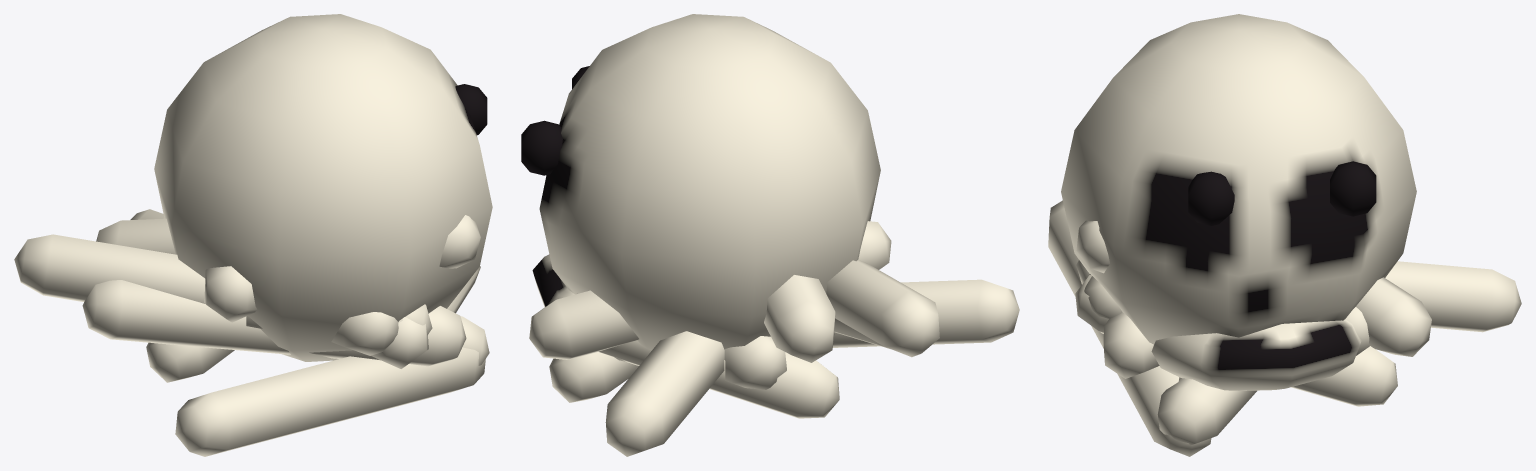
The model's file is prop_bonepile4_bef1.glb.
3 renders of one model, left to right at view 1: azimuth 30°, elevation 25°; view 2: azimuth 150°, elevation 25°; view 3: azimuth 270°, elevation 25°, orthographic.
Parts seen in each view (by area): view 1: prop_bonepile4_bef1; view 2: prop_bonepile4_bef1; view 3: prop_bonepile4_bef1.
Part boxes in pixels (x1,y1,x2,y2): prop_bonepile4_bef1: (14,14,492,456); prop_bonepile4_bef1: (521,14,1019,456); prop_bonepile4_bef1: (1048,14,1521,456).
Bounding box in the file's own units: 0.4978 × 0.4189 × 0.4822.
1 material, 1 textured.
